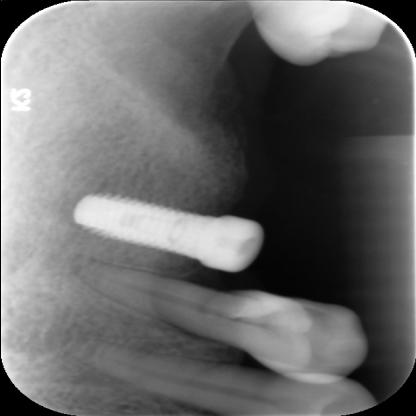Bego: (57, 179, 212, 264)
